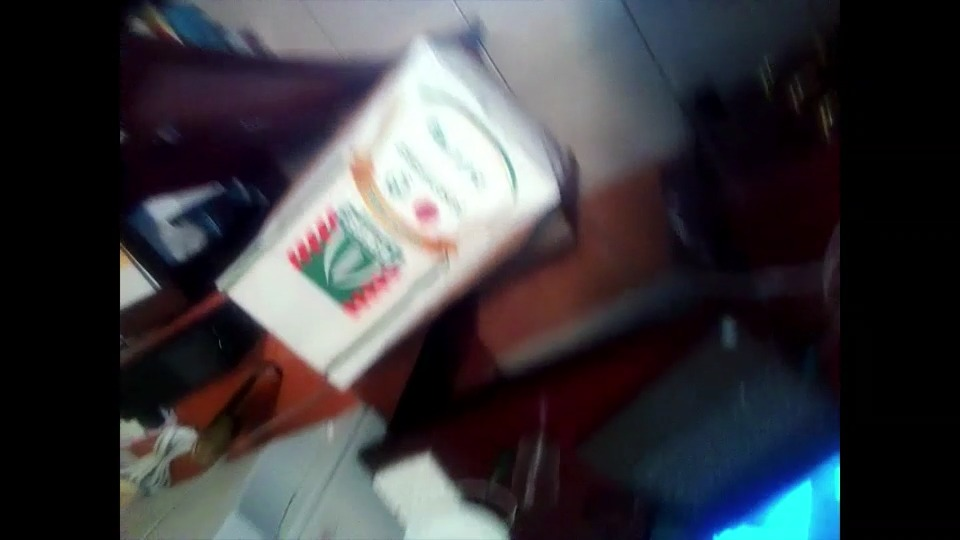maize_flour_green_label: (219, 35, 567, 394)
